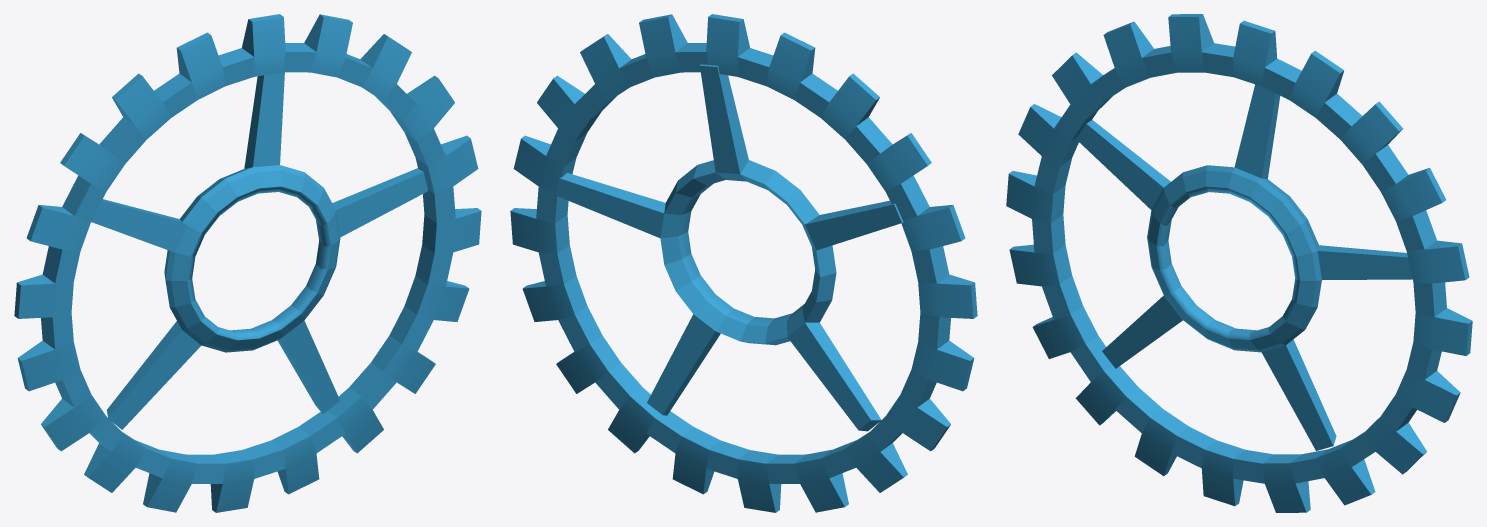
Rendered from Gear_Diam_03_Size_3.fbx.
3 views of the same model, side by side, from view 1: azimuth 30°, elevation 25°; view 2: azimuth 150°, elevation 25°; view 3: azimuth 330°, elevation 25° (orthographic).
Visible parts, largest first — view 1: Gear_Diam_03_Size_3; view 2: Gear_Diam_03_Size_3; view 3: Gear_Diam_03_Size_3.
Part boxes in pixels (<box>): Gear_Diam_03_Size_3: <box>14,14,481,512</box>; Gear_Diam_03_Size_3: <box>510,14,977,512</box>; Gear_Diam_03_Size_3: <box>1006,14,1472,512</box>.
Bounding box in the file's own units: 26.21 × 26.21 × 1.8.
